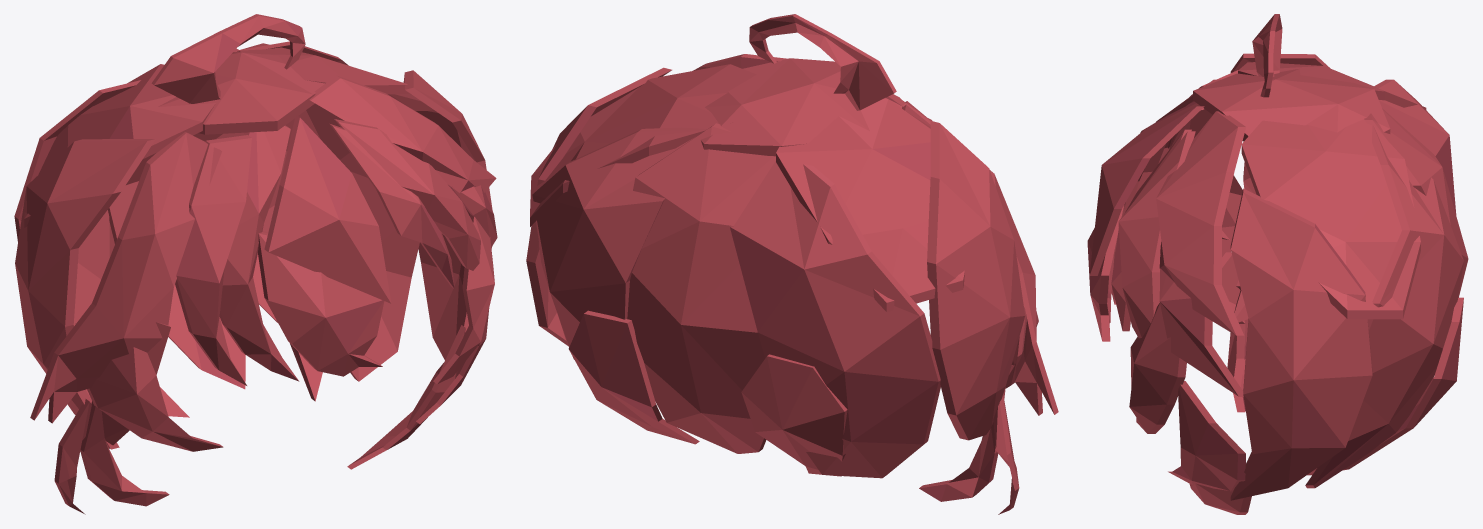
Rendered from crown_fringe.glb.
3 views of the same model, side by side, from view 1: azimuth 30°, elevation 25°; view 2: azimuth 150°, elevation 25°; view 3: azimuth 270°, elevation 25° (orthographic). The views are drawn at different scales.
Parts seen in each view (by area): view 1: Hair • reference left broad temple fold, Hair • constructed side swept volume.L, Hair • reference signature triangular forelock, Hair • reference left inward forehead fold, Hair • reference central curved under-bang, Hair • constructed broad left root-to-fringe lock, Hair • reference right crown flying sheet, Hair • constructed right rear gathered fall, Hair • constructed whorl saddle, Hair • constructed left crown sweep, Hair • reference left pointed cheek sweep, Hair • constructed side swept volume.R (+13 smaller); view 2: Hair • constructed left rear gathered fall, Hair • constructed center rear fall, Hair • constructed side swept volume.L, Hair • constructed left crown sweep, Hair • constructed right rear gathered fall, Hair • constructed whorl saddle, Hair • constructed right crown sweep, Hair • constructed left nape overlap, Hair • constructed right nape overlap, Hair • reference folded ahoge, Hair • reference left broad temple fold, Hair • constructed side swept volume.R (+3 smaller); view 3: Hair • constructed side swept volume.R, Hair • constructed right crown sweep, Hair • constructed right rear gathered fall, Hair • reference right crown flying sheet, Hair • constructed whorl saddle, Hair • reference right broad diagonal bang, Hair • reference right curled cheek blade, Hair • reference signature triangular forelock, Hair • reference right temple pointed sheet, Hair • reference right outside crown blade, Hair • constructed center rear fall, Hair • constructed left rear gathered fall (+10 smaller).
Boxes of the visible parts, bbox=[...] form: Hair • reference left broad temple fold: bbox=[30, 132, 221, 423]; Hair • constructed side swept volume.L: bbox=[15, 139, 155, 449]; Hair • reference signature triangular forelock: bbox=[264, 114, 391, 303]; Hair • reference left inward forehead fold: bbox=[175, 135, 251, 385]; Hair • reference central curved under-bang: bbox=[258, 232, 384, 376]; Hair • constructed broad left root-to-fringe lock: bbox=[219, 125, 299, 381]; Hair • reference right crown flying sheet: bbox=[309, 75, 496, 193]; Hair • constructed right rear gathered fall: bbox=[239, 41, 419, 381]; Hair • constructed whorl saddle: bbox=[158, 52, 324, 134]; Hair • constructed left crown sweep: bbox=[24, 64, 215, 227]; Hair • reference left pointed cheek sweep: bbox=[87, 322, 223, 451]; Hair • constructed side swept volume.R: bbox=[403, 70, 492, 359]; Hair • constructed left rear gathered fall: bbox=[730, 161, 940, 478]; Hair • constructed center rear fall: bbox=[627, 123, 775, 453]; Hair • constructed side swept volume.L: bbox=[927, 121, 1025, 440]; Hair • constructed left crown sweep: bbox=[776, 98, 964, 312]; Hair • constructed right rear gathered fall: bbox=[532, 127, 707, 359]; Hair • constructed whorl saddle: bbox=[701, 58, 885, 156]; Hair • constructed right crown sweep: bbox=[530, 64, 756, 226]; Hair • constructed left nape overlap: bbox=[741, 354, 847, 476]; Hair • constructed right nape overlap: bbox=[568, 310, 699, 444]; Hair • reference folded ahoge: bbox=[749, 14, 896, 110]; Hair • reference left broad temple fold: bbox=[902, 101, 1058, 415]; Hair • constructed side swept volume.R: bbox=[526, 67, 671, 345]; Hair • constructed side swept volume.R: bbox=[1230, 188, 1372, 500]; Hair • constructed right crown sweep: bbox=[1241, 111, 1420, 319]; Hair • constructed right rear gathered fall: bbox=[1305, 125, 1463, 488]; Hair • reference right crown flying sheet: bbox=[1156, 111, 1245, 335]; Hair • constructed whorl saddle: bbox=[1193, 68, 1390, 141]; Hair • reference right broad diagonal bang: bbox=[1118, 131, 1195, 338]; Hair • reference right curled cheek blade: bbox=[1168, 381, 1245, 491]; Hair • reference signature triangular forelock: bbox=[1089, 106, 1204, 275]; Hair • reference right temple pointed sheet: bbox=[1129, 303, 1186, 433]; Hair • reference right outside crown blade: bbox=[1159, 254, 1243, 396]; Hair • constructed center rear fall: bbox=[1364, 108, 1468, 297]; Hair • constructed left rear gathered fall: bbox=[1374, 79, 1456, 214].
Bounding box in the file's own units: 2.99 × 2.7 × 2.12.
